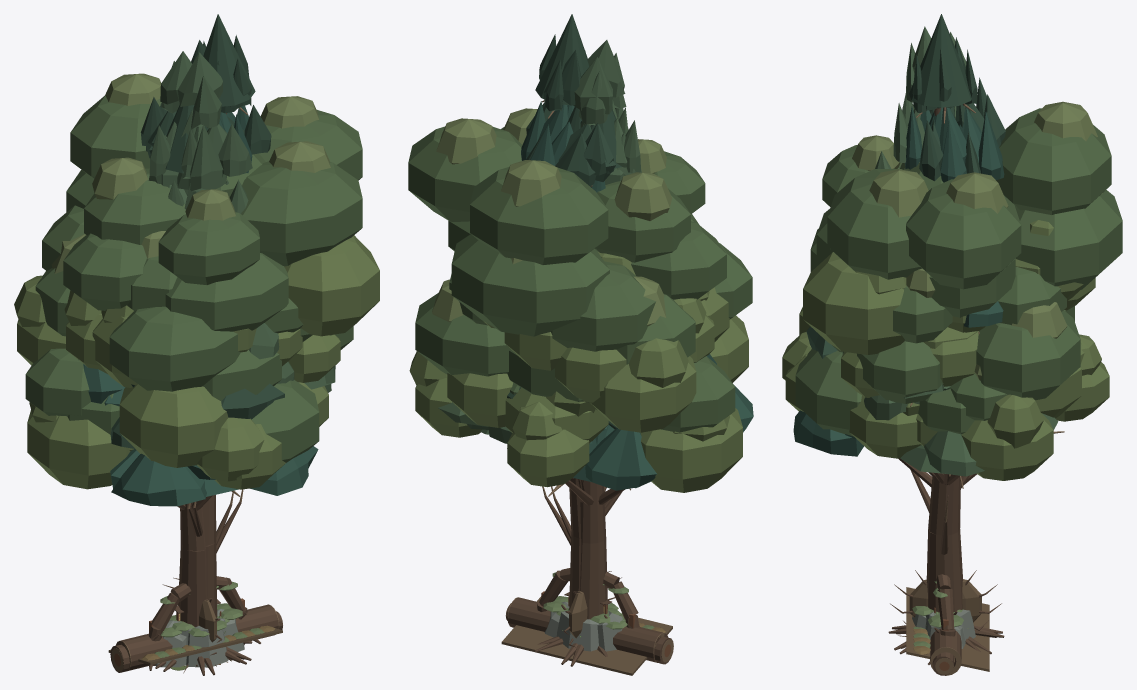
The model's file is forest-kit-v3.glb.
3 views of the same model, side by side, from view 1: azimuth 30°, elevation 25°; view 2: azimuth 150°, elevation 25°; view 3: azimuth 270°, elevation 25° (orthographic).
Visible parts, largest first — view 1: MatureOakB, MatureOakA, MatureAlderA, MatureAlderB, MaturePineB, MatureCedarA, MaturePineA, MatureCedarB, BoulderCluster, HollowLog, RootArch, DryBankSlope (+2 smaller); view 2: MatureOakB, MatureOakA, MatureAlderA, MatureAlderB, MaturePineB, MatureCedarA, MaturePineA, MatureCedarB, DryBankSlope, HollowLog, BoulderCluster, RootArch (+3 smaller); view 3: MatureOakB, MatureOakA, MatureAlderB, MaturePineB, MatureAlderA, MatureCedarB, MatureCedarA, DryBankSlope, RootPlate, RootArch, HollowLog, BoulderCluster (+1 smaller).
Part boxes in pixels (x1,y1,x2,y2): MatureOakB: (25,73,362,675); MatureOakA: (35,170,319,675); MatureAlderA: (14,275,340,510); MatureAlderB: (92,235,379,481); MaturePineB: (145,14,335,660); MatureCedarA: (78,183,331,668); MaturePineA: (110,97,228,667); MatureCedarB: (131,106,298,666); BoulderCluster: (155,603,244,667); HollowLog: (115,604,279,670); RootArch: (149,576,260,670); DryBankSlope: (108,625,282,664); MatureOakB: (408,108,735,664); MatureOakA: (415,214,752,666); MatureAlderA: (447,298,748,505); MatureAlderB: (409,251,729,478); MaturePineB: (507,14,635,398); MatureCedarA: (480,180,753,490); MaturePineA: (488,100,641,443); MatureCedarB: (438,101,628,661); DryBankSlope: (501,596,672,675); HollowLog: (507,597,668,662); BoulderCluster: (543,596,627,651); RootArch: (537,568,639,628); MatureOakB: (822,101,1111,651); MatureOakA: (795,189,1122,654); MatureAlderB: (782,220,1084,485); MaturePineB: (806,14,1005,420); MatureAlderA: (785,278,1109,487); MatureCedarB: (842,93,1058,648); MatureCedarA: (793,410,984,634); DryBankSlope: (906,587,989,671); RootPlate: (890,570,1001,630); RootArch: (928,574,955,664); HollowLog: (930,611,961,675); BoulderCluster: (912,606,965,648).
Bounding box in the file's own units: 17.04 × 32 × 15.56.
